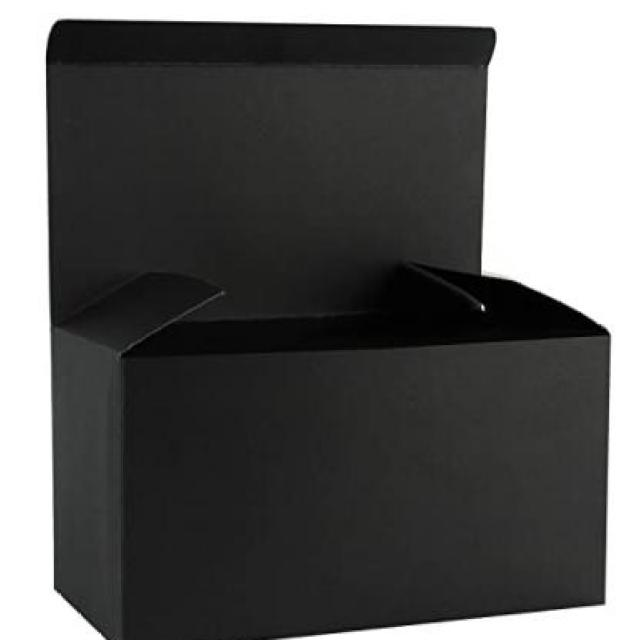box: (39, 8, 616, 640)
